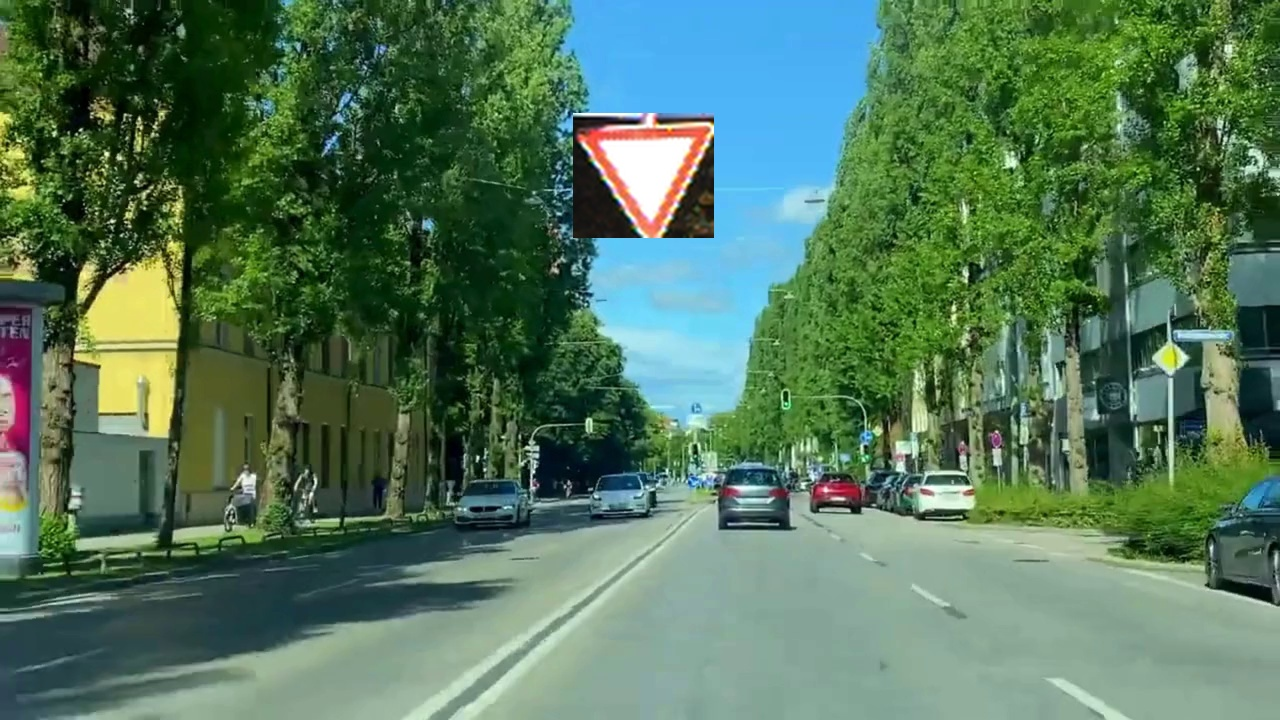Yield: (573, 113, 714, 238)
